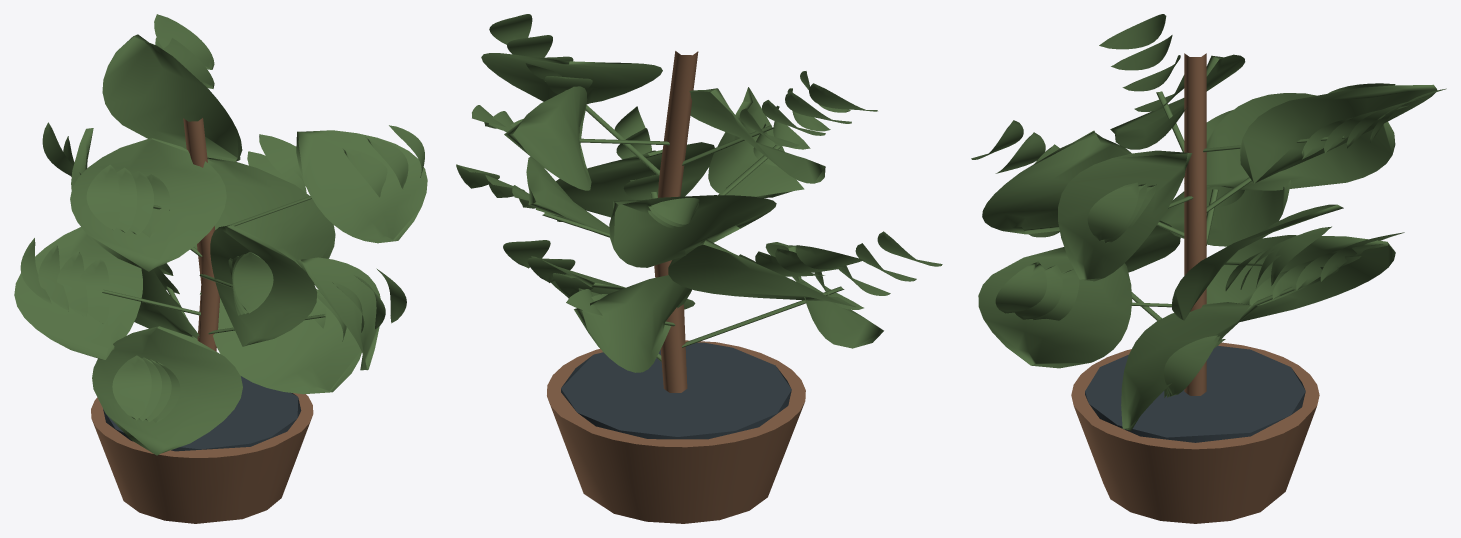
File: plant-14-1.lod.glb
3 renders of one model, left to right at view 1: azimuth 30°, elevation 25°; view 2: azimuth 150°, elevation 25°; view 3: azimuth 270°, elevation 25°, orthographic. The views are drawn at different scales.
Visible parts, largest first — view 1: part (×36); view 2: part (×28); view 3: part (×32).
Part boxes in pixels (left/top/right/bottom): part (×36): left=14, top=14, right=427, bottom=523; part (×28): left=456, top=14, right=883, bottom=523; part (×32): left=971, top=14, right=1437, bottom=523.
Size of the model in its own units: 1 by 1 by 1.
